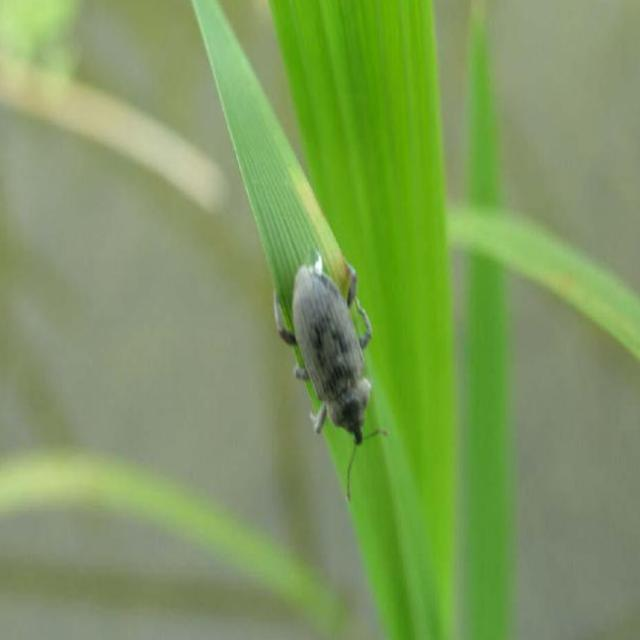ricebug: (275, 254, 372, 448)
